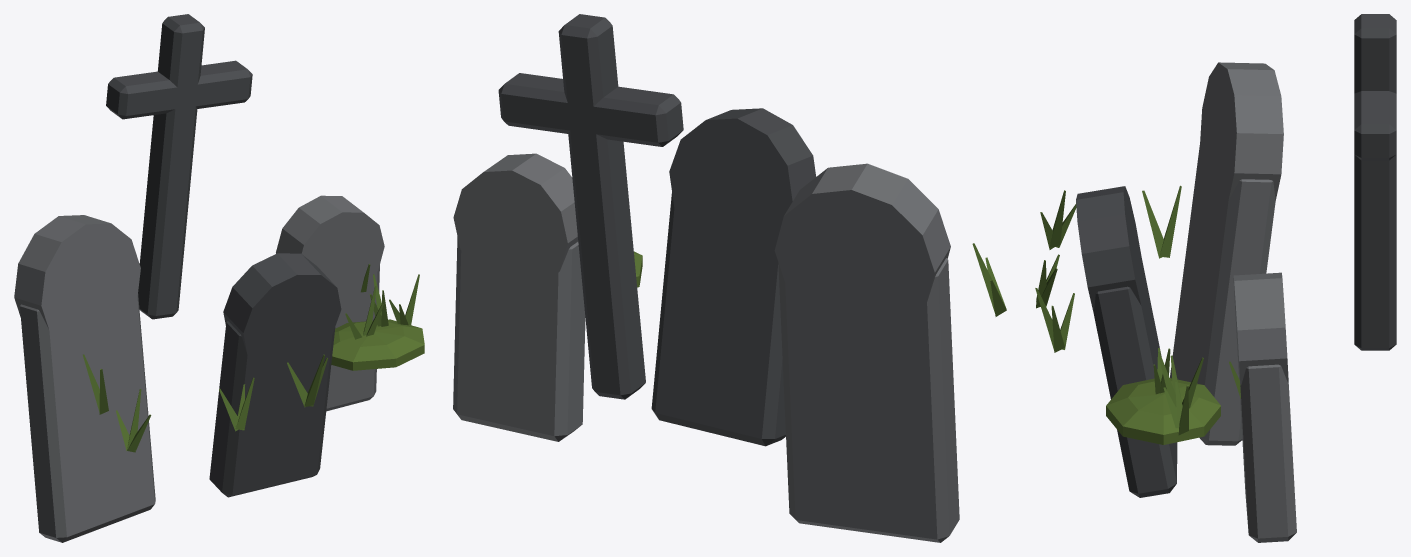
File: graves.glb
The picture shows the model from 3 angles, left to right: view 1: azimuth 30°, elevation 25°; view 2: azimuth 150°, elevation 25°; view 3: azimuth 270°, elevation 25°; orthographic projection. The views are drawn at different scales.
Parts seen in each view (by area): view 1: Graves; view 2: Graves; view 3: Graves.
Part boxes in pixels (x1,y1,x2,y2): Graves: [14, 14, 424, 542]; Graves: [453, 14, 1006, 542]; Graves: [1035, 14, 1396, 542].
Size of the model in its own units: 0.8525 by 0.8919 by 0.5968.
